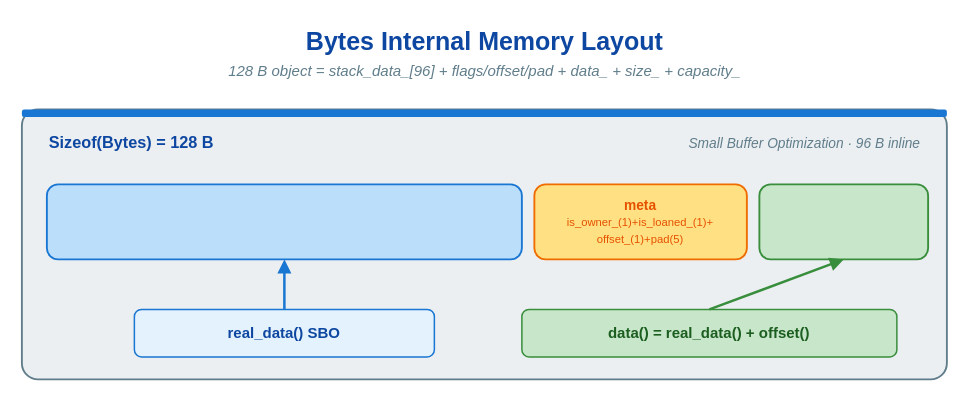
Some shapes in this 970 by 401 pixel diagram are drawn without their labels. The centre of each missing label's shape, as x and y in pixels:
"data_ / size_ / capacity_ pointer + length + capacity (24 B)" belongs at [843,221].
"stack_data_[96] 96 bytes · inline" belongs at [283,221].
